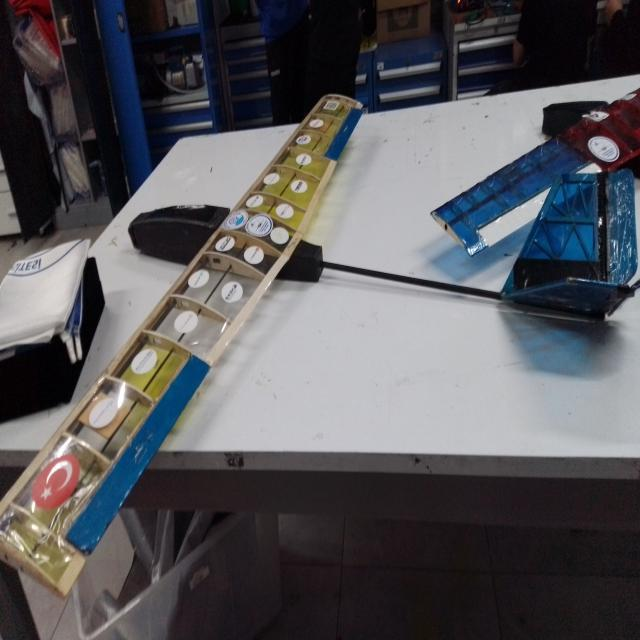iha: (31, 81, 640, 595)
